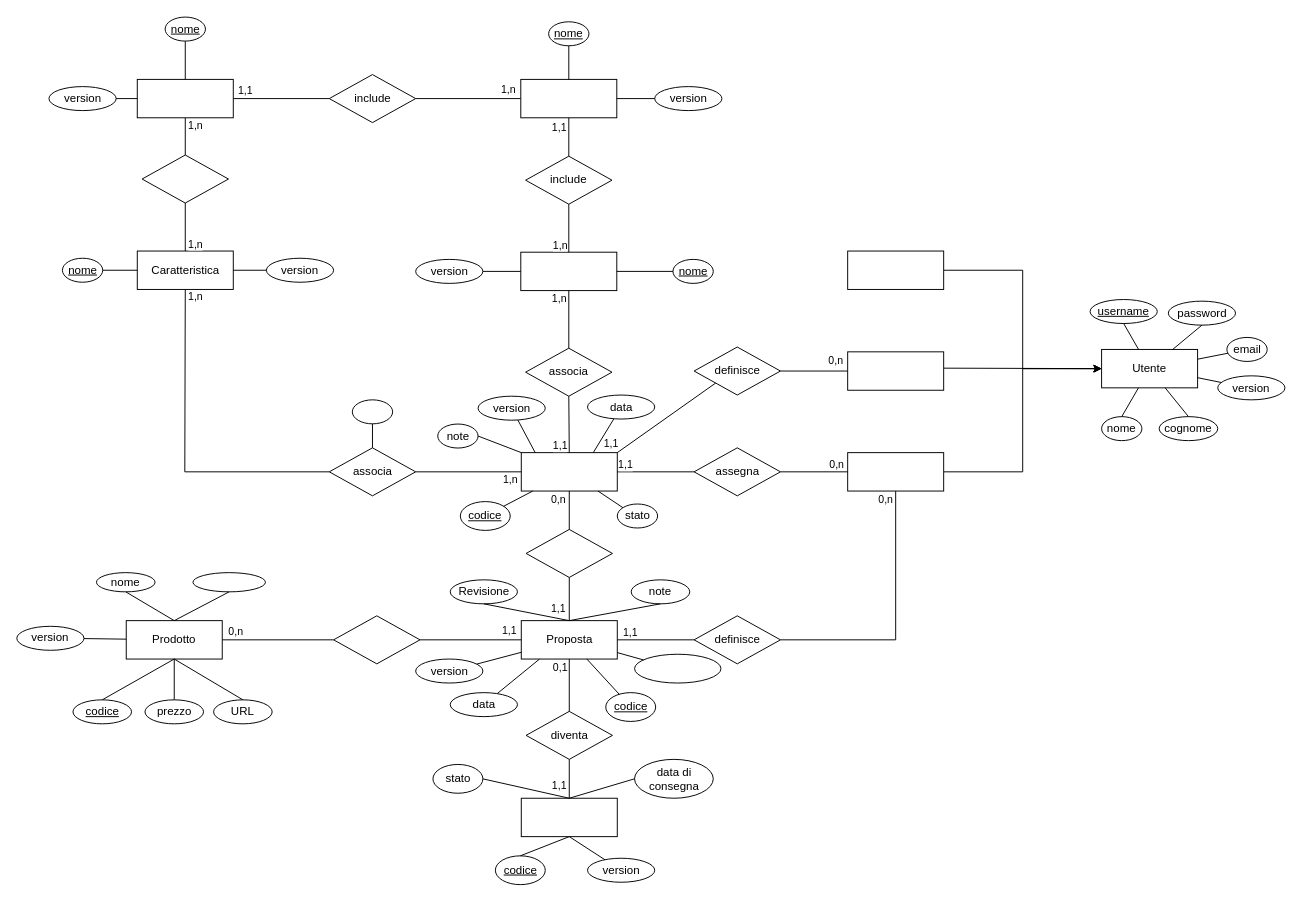
Image size: 1302x901. Some labels were removed from this diagram. Here are the shapes that lost their labels. From the top down, the centre of each, then its label:
At pixel 184 98: "Micro-Categoria".
At pixel 568 98: "Sotto-Categoria".
At pixel 184 178: "contiene".
At pixel 568 271: "Categoria".
At pixel 895 269: "Amministratore".
At pixel 895 370: "Ordinante".
At pixel 372 411: "valore".
At pixel 568 471: "Richiesta".
At pixel 895 471: "Tecnico".
At pixel 568 552: "segue".
At pixel 228 582: "produttore".
At pixel 376 639: "propone".
At pixel 677 668: "rev_motivazione".
At pixel 568 817: "Ordine".
